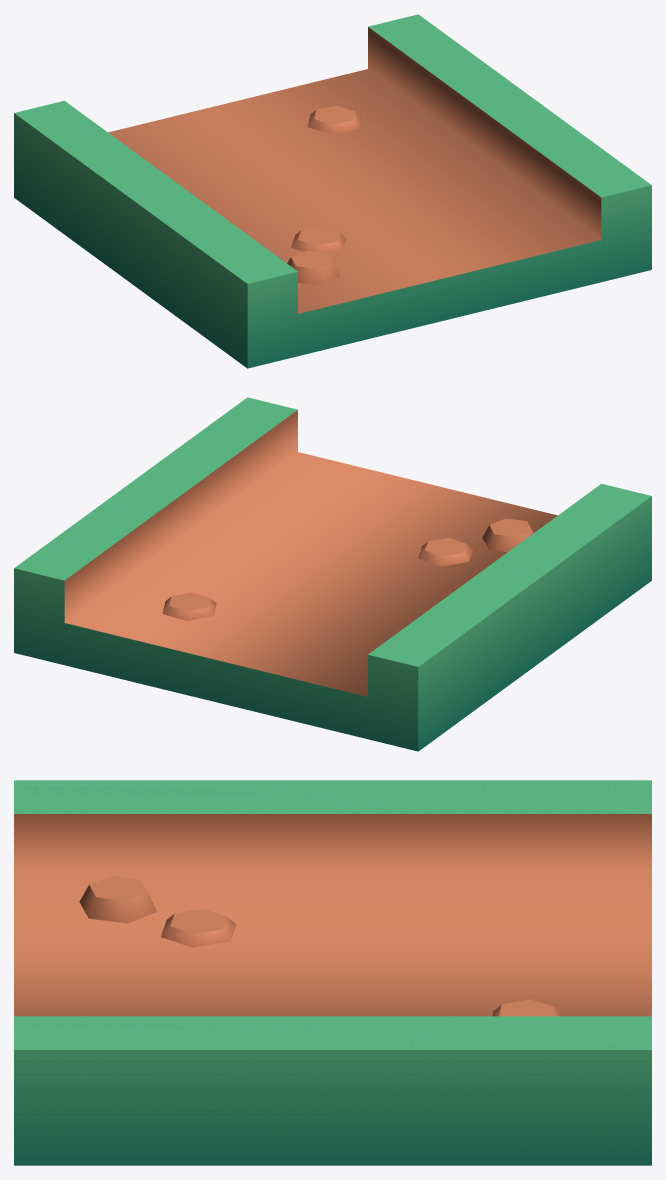
Rendered from tile-straight.glb.
The picture shows the model from 3 angles, top to bottom: view 1: azimuth 30°, elevation 25°; view 2: azimuth 150°, elevation 25°; view 3: azimuth 270°, elevation 25°; orthographic projection. The views are drawn at different scales.
Visible parts, largest first — view 1: tile-straight; view 2: tile-straight; view 3: tile-straight.
Boxes of the visible parts, x1,y1,x2,y2 form: tile-straight: (14, 14, 651, 368); tile-straight: (14, 397, 651, 751); tile-straight: (14, 780, 651, 1165).
Bounding box in the file's own units: 1 × 0.2 × 1.
Materials: 1 (1 with a texture image).
